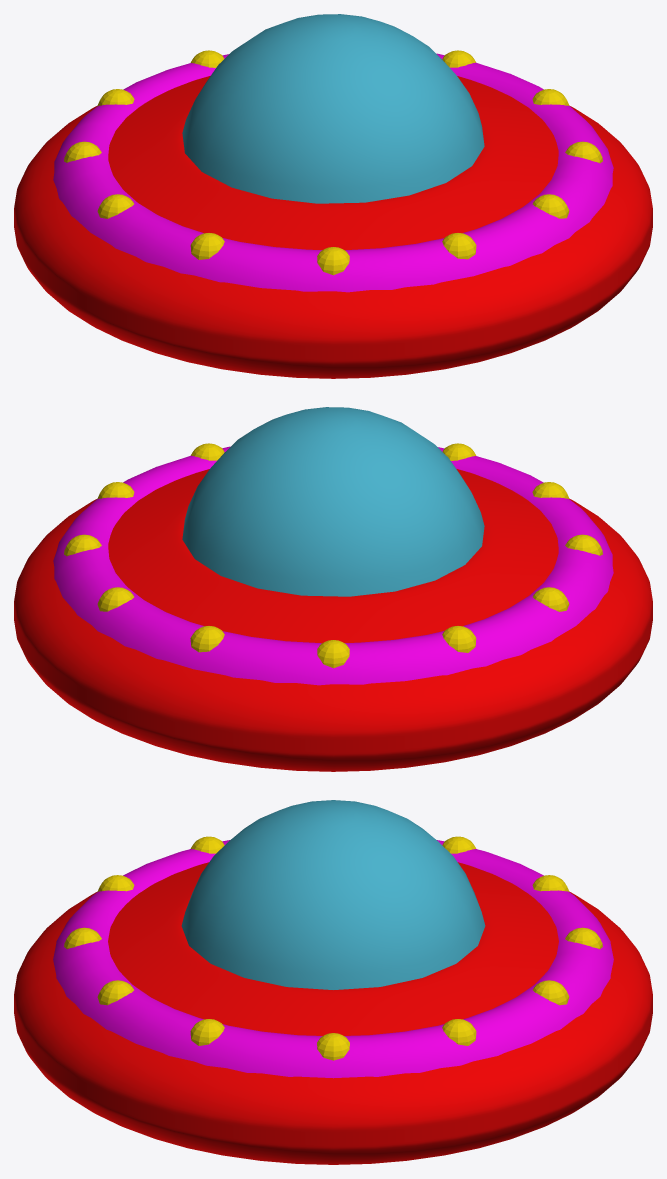
The model's file is UFO_003.fbx.
3 renders of one model, top to bottom at view 1: azimuth 30°, elevation 25°; view 2: azimuth 150°, elevation 25°; view 3: azimuth 270°, elevation 25°, orthographic.
Parts seen in each view (by area): view 1: UFO_Body, UFO_Dome, UFO_Ring, UFO_Nodes; view 2: UFO_Body, UFO_Dome, UFO_Ring, UFO_Nodes; view 3: UFO_Body, UFO_Dome, UFO_Ring, UFO_Nodes.
Part boxes in pixels (x1,y1,x2,y2): UFO_Body: (14,76,652,378); UFO_Dome: (182,14,484,203); UFO_Ring: (53,53,613,292); UFO_Nodes: (64,50,602,275); UFO_Body: (14,469,652,771); UFO_Dome: (182,407,484,596); UFO_Ring: (53,446,613,685); UFO_Nodes: (64,443,602,668); UFO_Body: (14,862,652,1164); UFO_Dome: (181,800,485,989); UFO_Ring: (53,840,613,1078); UFO_Nodes: (64,836,602,1060).
Size of the model in its own units: 1.92 by 1.92 by 0.9596.
